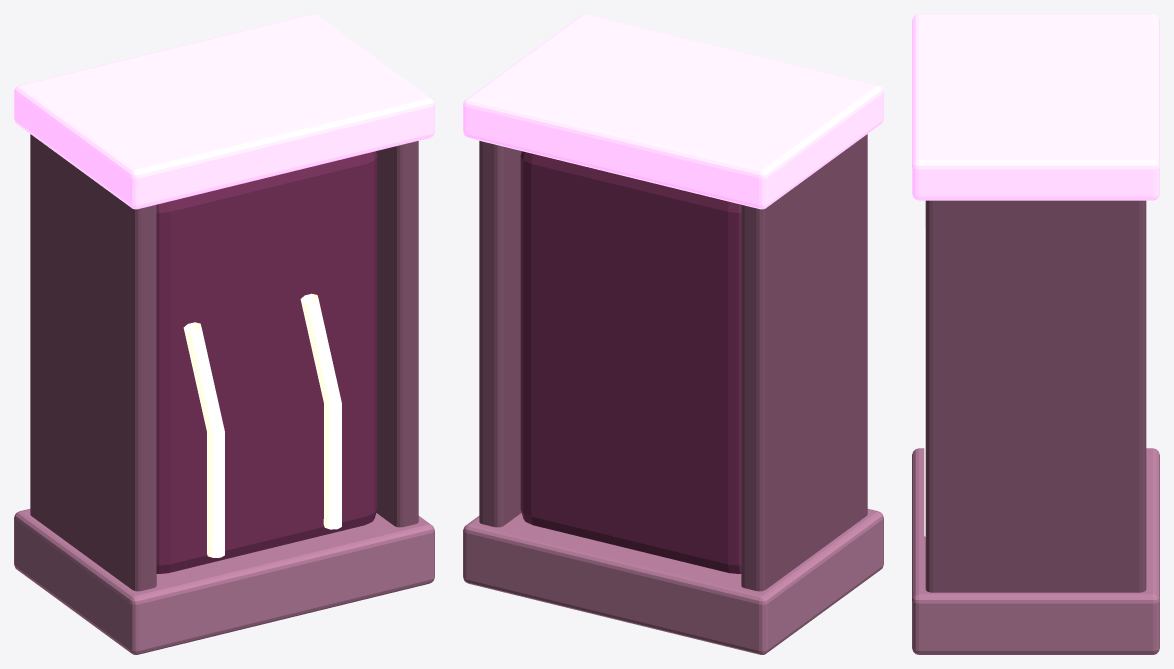
The model's file is SM_Vivarium.fbx.
3 renders of one model, left to right at view 1: azimuth 30°, elevation 25°; view 2: azimuth 150°, elevation 25°; view 3: azimuth 270°, elevation 25°, orthographic.
Parts seen in each view (by area): view 1: SM_Vivarium; view 2: SM_Vivarium; view 3: SM_Vivarium.
Part boxes in pixels (x1,y1,x2,y2): SM_Vivarium: (14,14,434,654); SM_Vivarium: (463,14,883,654); SM_Vivarium: (912,14,1159,654).
Size of the model in its own units: 130 by 90 by 198.
